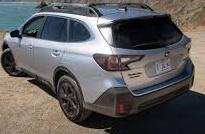SUV: (2, 4, 195, 123)
